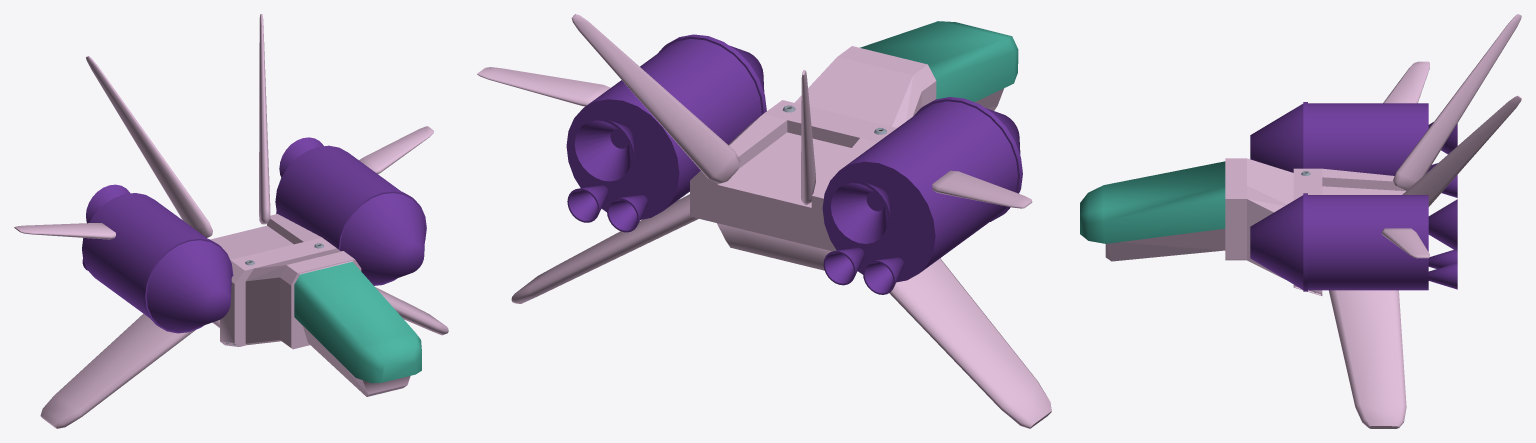
Rendered from heroShip_scaleFix.FBX.
3 renders of one model, left to right at view 1: azimuth 30°, elevation 25°; view 2: azimuth 150°, elevation 25°; view 3: azimuth 270°, elevation 25°, orthographic. The views are drawn at different scales.
Visible parts, largest first — view 1: body; view 2: body; view 3: body.
Part boxes in pixels (x1=…): body: x1=14, y1=14, x2=448, y2=428; body: x1=477, y1=14, x2=1051, y2=428; body: x1=1080, y1=14, x2=1521, y2=428.
Size of the model in its own units: 116 by 77.97 by 111.
